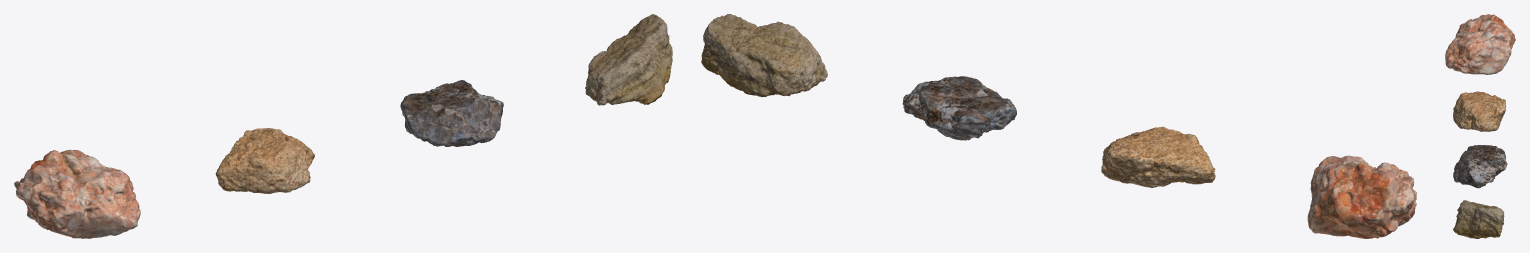
File: namaqualand_rocks_01.glb
3 renders of one model, left to right at view 1: azimuth 30°, elevation 25°; view 2: azimuth 150°, elevation 25°; view 3: azimuth 270°, elevation 25°, orthographic. The views are drawn at different scales.
Visible parts, largest first — view 1: namaqualand_rocks_02_a, namaqualand_rocks_02_d, namaqualand_rocks_02_c, namaqualand_rocks_02_b; view 2: namaqualand_rocks_02_d, namaqualand_rocks_02_a, namaqualand_rocks_02_b, namaqualand_rocks_02_c; view 3: namaqualand_rocks_02_a, namaqualand_rocks_02_b, namaqualand_rocks_02_c, namaqualand_rocks_02_d.
Boxes of the visible parts, x1,y1,x2,y2 form: namaqualand_rocks_02_a: (14, 149, 140, 238); namaqualand_rocks_02_d: (585, 14, 672, 105); namaqualand_rocks_02_c: (400, 80, 503, 146); namaqualand_rocks_02_b: (215, 128, 314, 193); namaqualand_rocks_02_d: (701, 14, 827, 97); namaqualand_rocks_02_a: (1307, 155, 1416, 238); namaqualand_rocks_02_b: (1101, 126, 1215, 187); namaqualand_rocks_02_c: (902, 76, 1016, 140); namaqualand_rocks_02_a: (1445, 14, 1515, 74); namaqualand_rocks_02_b: (1453, 91, 1506, 131); namaqualand_rocks_02_c: (1453, 145, 1507, 188); namaqualand_rocks_02_d: (1453, 200, 1504, 238).
Size of the model in its own units: 1.45 by 0.1525 by 0.2169.
1 material, 1 textured.
